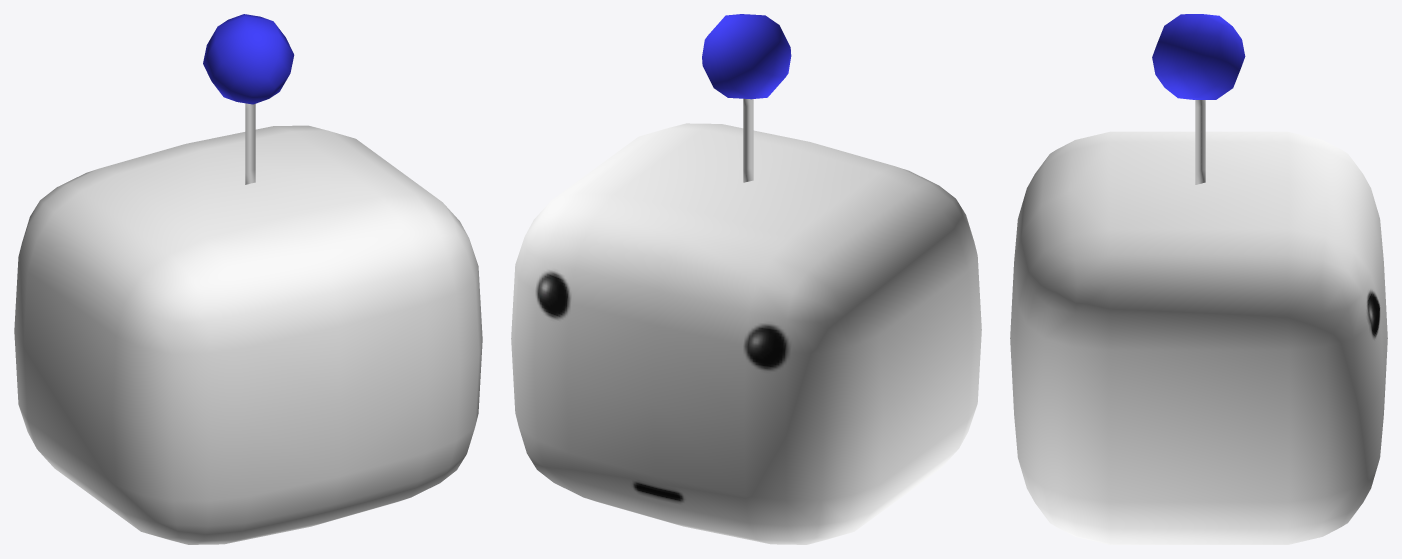
The model's file is icon00.ico.obj.
The picture shows the model from 3 angles, left to right: view 1: azimuth 30°, elevation 25°; view 2: azimuth 150°, elevation 25°; view 3: azimuth 270°, elevation 25°; orthographic projection.
Bounding box in the file's own units: 3.85 × 4.8 × 3.43.
1 material, 1 textured.
